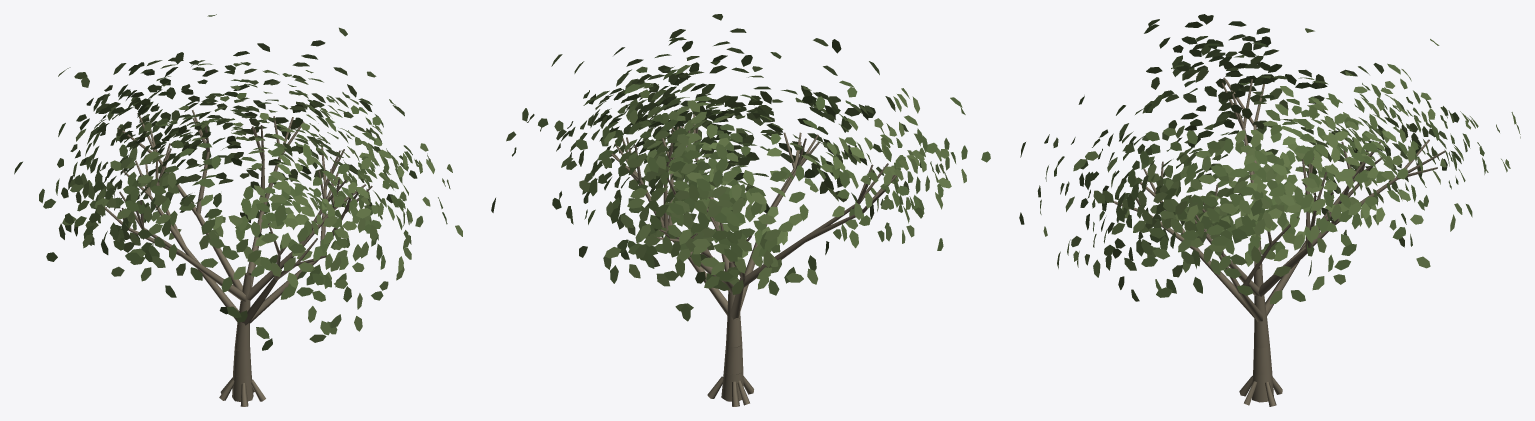
The picture shows the model from 3 angles, left to right: view 1: azimuth 30°, elevation 25°; view 2: azimuth 150°, elevation 25°; view 3: azimuth 270°, elevation 25°; orthographic projection. The views are drawn at different scales.
Parts seen in each view (by area): view 1: plane_2_LOD0; view 2: plane_2_LOD0; view 3: plane_2_LOD0.
Boxes of the visible parts, bbox=[...] form: plane_2_LOD0: bbox=[14, 14, 462, 406]; plane_2_LOD0: bbox=[491, 14, 990, 406]; plane_2_LOD0: bbox=[1019, 14, 1520, 406].
Size of what is drawn, in the model's own units: 3.23 by 2.66 by 3.45.
